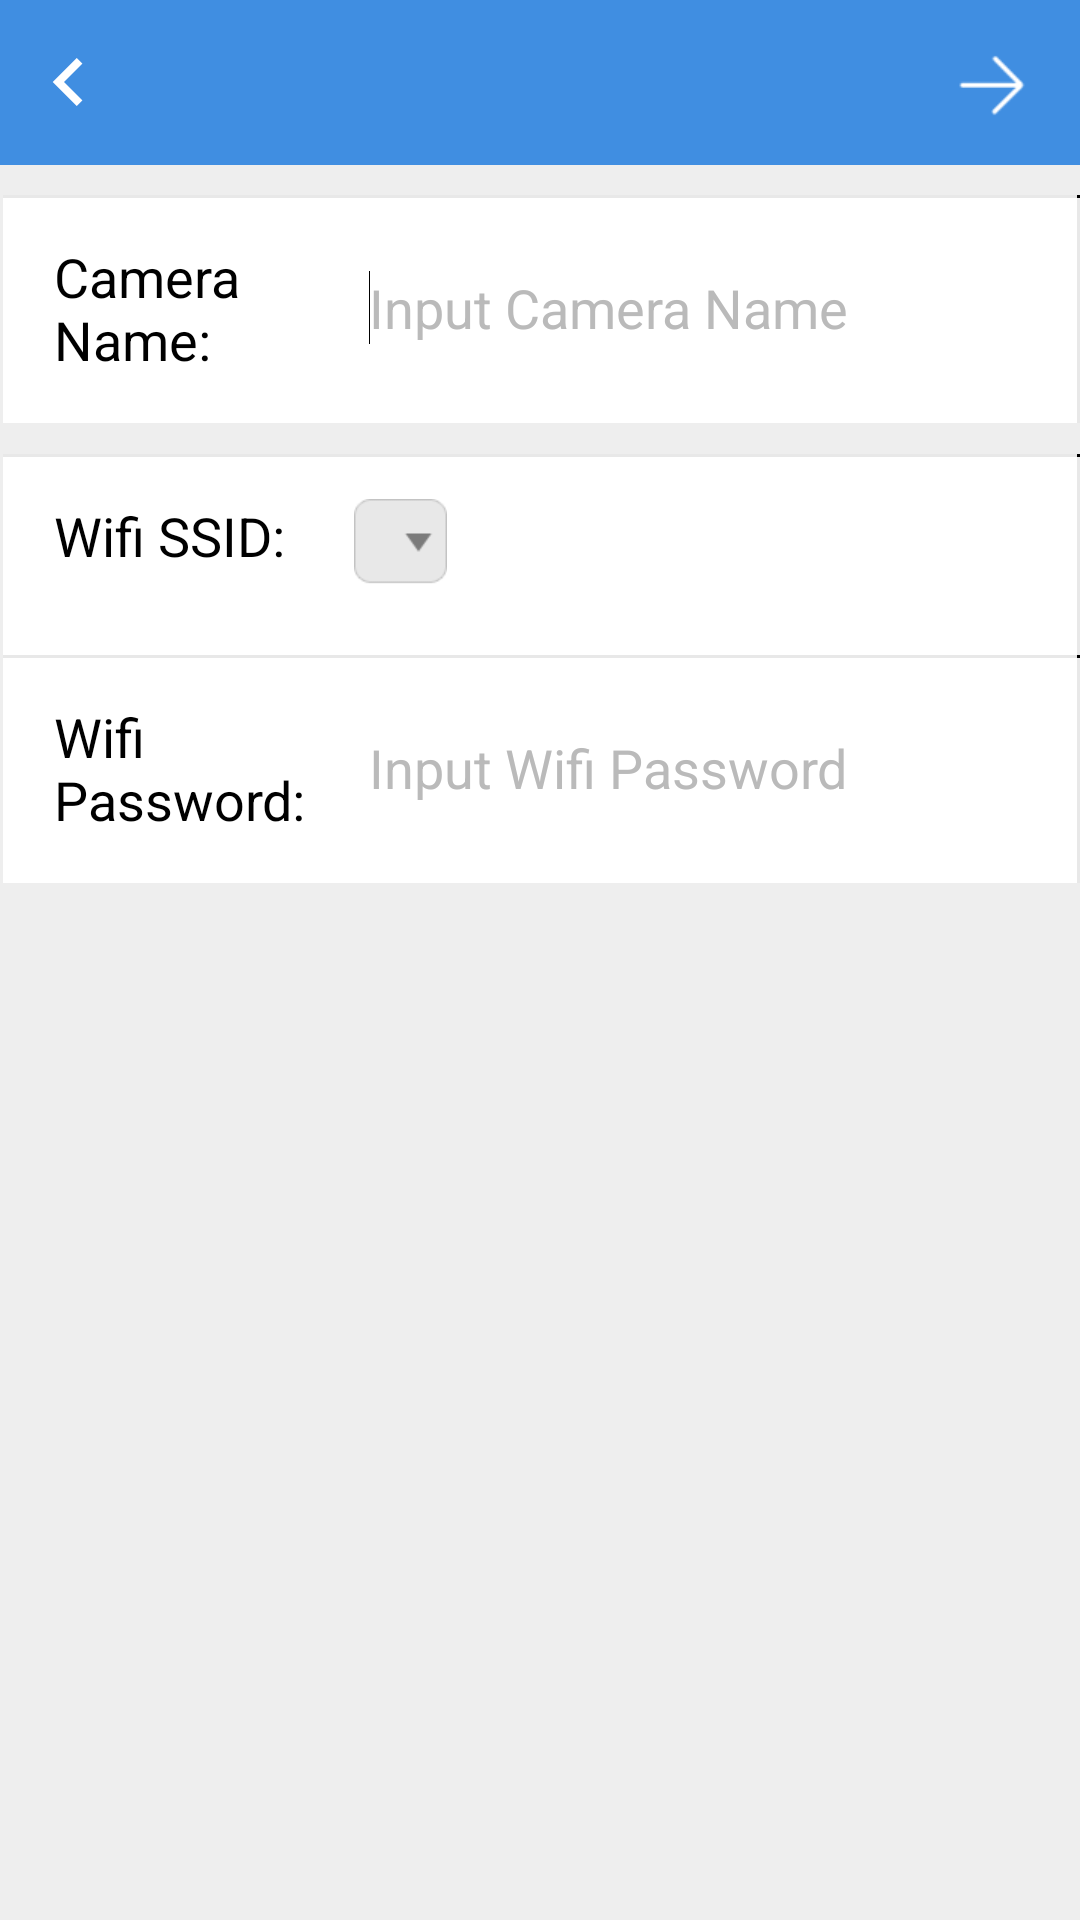

Icons on this 1080*1920 Android screen, each with the point to tap as (x=x, y=y):
back: (x=68, y=82)
